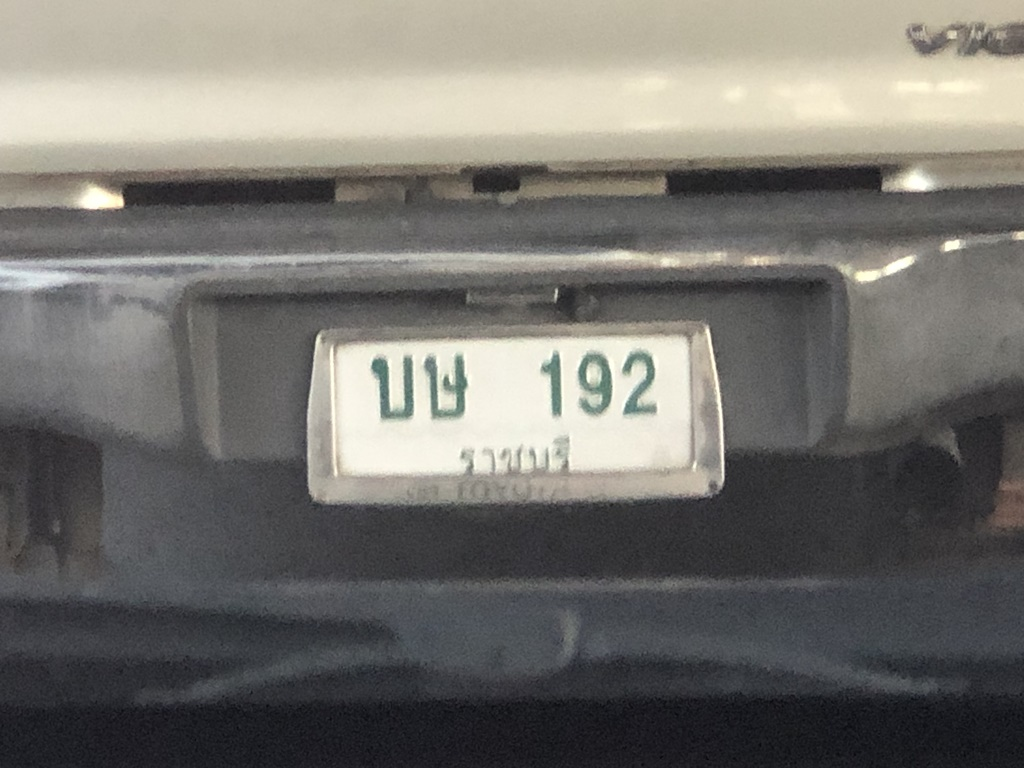nine: (570, 348, 619, 423)
one: (527, 345, 574, 432)
two: (614, 345, 659, 425)
